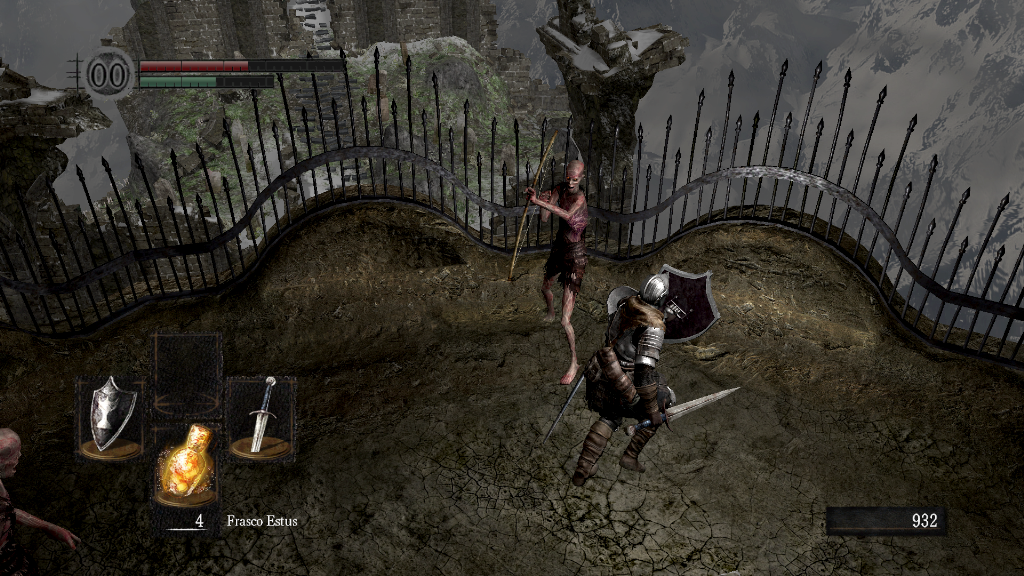health: (138, 58, 343, 71)
hollow: (504, 138, 596, 390), (1, 420, 84, 566)
humanity: (80, 45, 136, 102)
player: (543, 263, 742, 487)
souls: (825, 506, 945, 536)
stamina: (138, 74, 274, 88)
